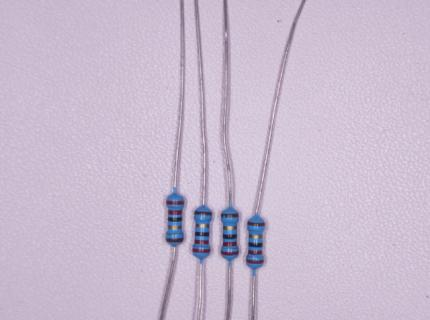Black band: (167, 216, 183, 222), (222, 233, 238, 239), (195, 231, 210, 237), (248, 242, 263, 248)
Brown band: (246, 220, 266, 227), (194, 210, 213, 216), (165, 238, 185, 243), (220, 213, 240, 218)
Gold band: (195, 223, 210, 229), (168, 224, 182, 230), (248, 234, 264, 239), (223, 225, 237, 230)
Red band: (221, 250, 239, 256), (246, 258, 264, 264), (222, 241, 238, 247), (247, 249, 263, 255), (192, 248, 211, 253), (166, 200, 184, 205), (168, 209, 182, 215), (194, 239, 210, 244)
